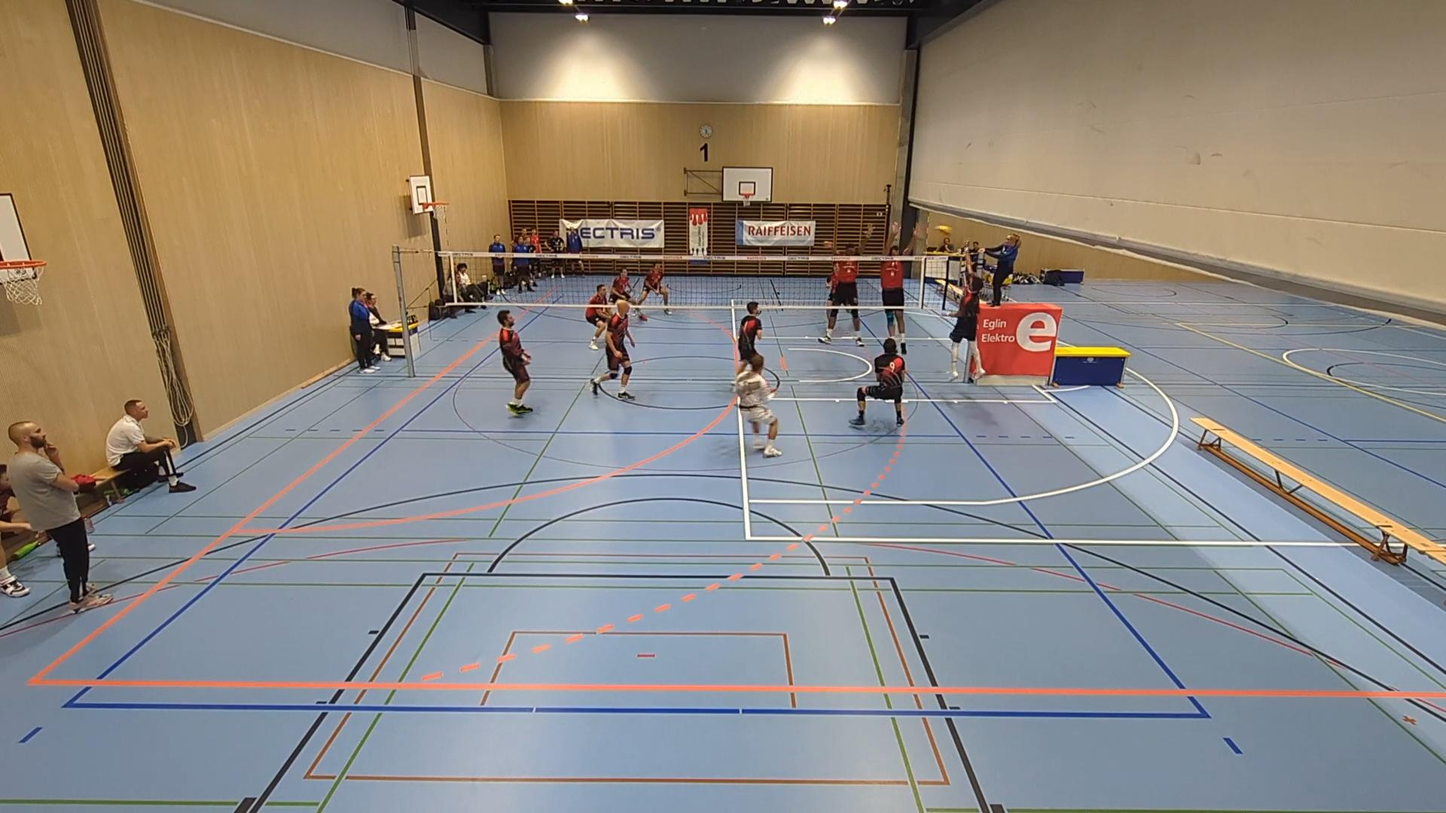Attack: (946, 245, 989, 380)
Block: (880, 222, 924, 358), (822, 221, 867, 351)
Player: (734, 353, 781, 456), (850, 340, 905, 425), (591, 299, 635, 400), (497, 310, 532, 415), (737, 301, 761, 373), (584, 284, 610, 350), (637, 263, 670, 314), (610, 267, 637, 304), (610, 267, 633, 303)
ball: (938, 222, 948, 235)
